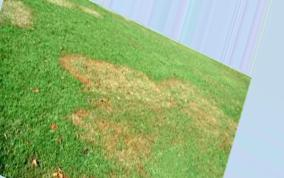patch: (66, 56, 144, 99), (82, 117, 140, 165), (169, 87, 221, 131), (7, 1, 28, 25)
